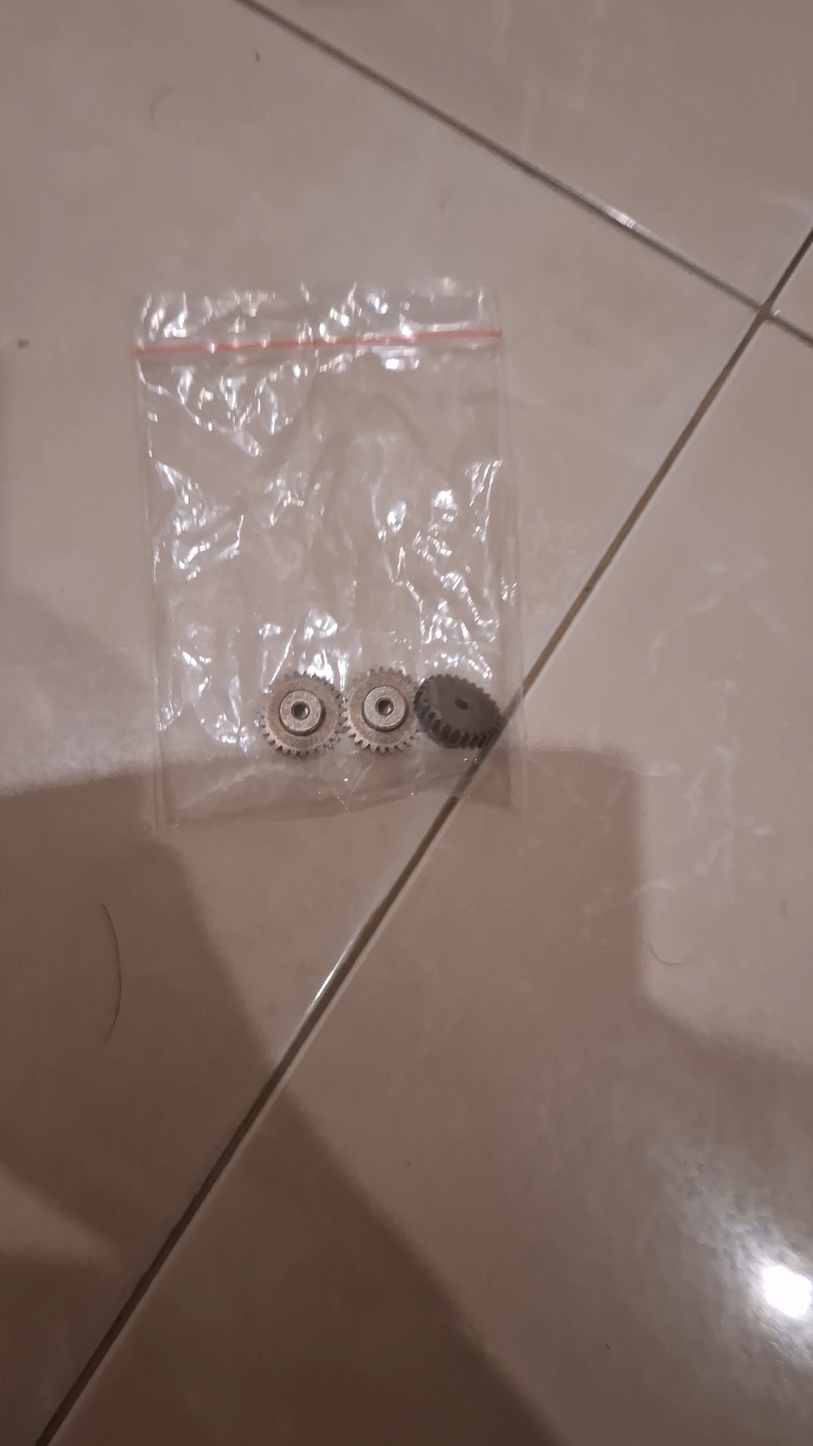spur gear: (259, 670, 346, 758), (341, 666, 423, 753), (413, 672, 504, 749)
